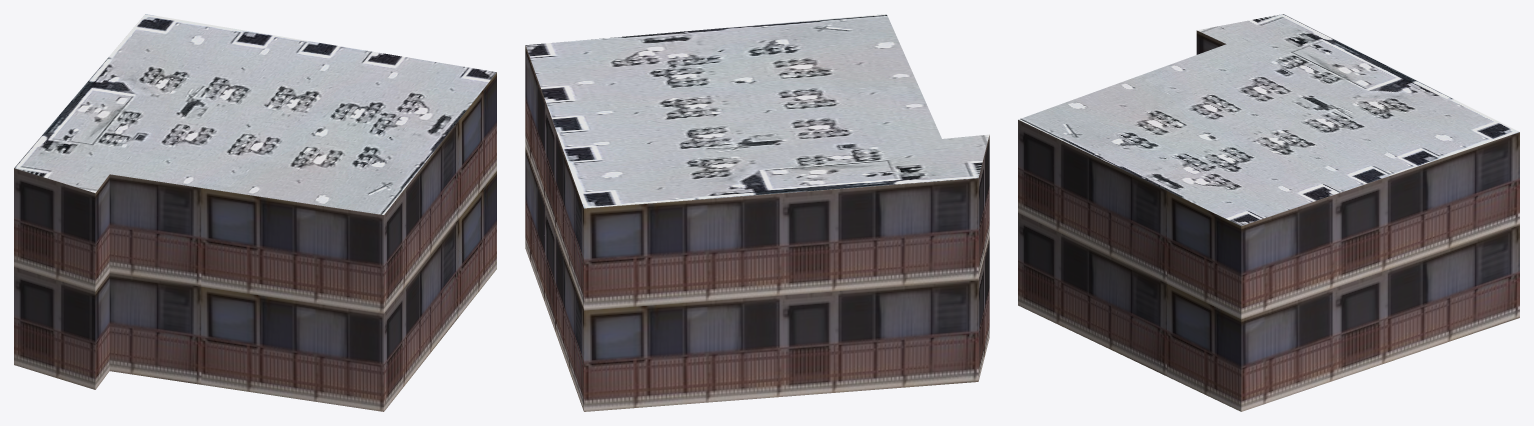
File: ResTex__20.fbx
3 views of the same model, side by side, from view 1: azimuth 30°, elevation 25°; view 2: azimuth 150°, elevation 25°; view 3: azimuth 270°, elevation 25° (orthographic). The views are drawn at different scales.
Visible parts, largest first — view 1: CityEngineMaterial_6_m, CityEngineMaterial_8_m; view 2: CityEngineMaterial_6_m, CityEngineMaterial_8_m; view 3: CityEngineMaterial_6_m, CityEngineMaterial_8_m.
Boxes of the visible parts, x1=… form: CityEngineMaterial_6_m: x1=14, y1=72, x2=496, y2=411; CityEngineMaterial_8_m: x1=14, y1=14, x2=496, y2=214; CityEngineMaterial_6_m: x1=525, y1=45, x2=989, y2=411; CityEngineMaterial_8_m: x1=525, y1=14, x2=989, y2=208; CityEngineMaterial_6_m: x1=1018, y1=30, x2=1519, y2=411; CityEngineMaterial_8_m: x1=1018, y1=14, x2=1519, y2=225.
Size of the model in its own units: 14.69 by 6 by 14.68.
Materials: 2 (2 with a texture image).
